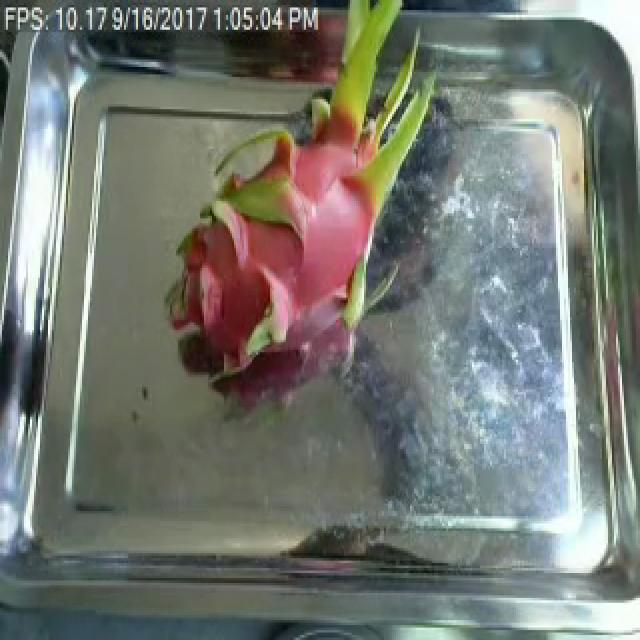fruit: (140, 2, 452, 390)
